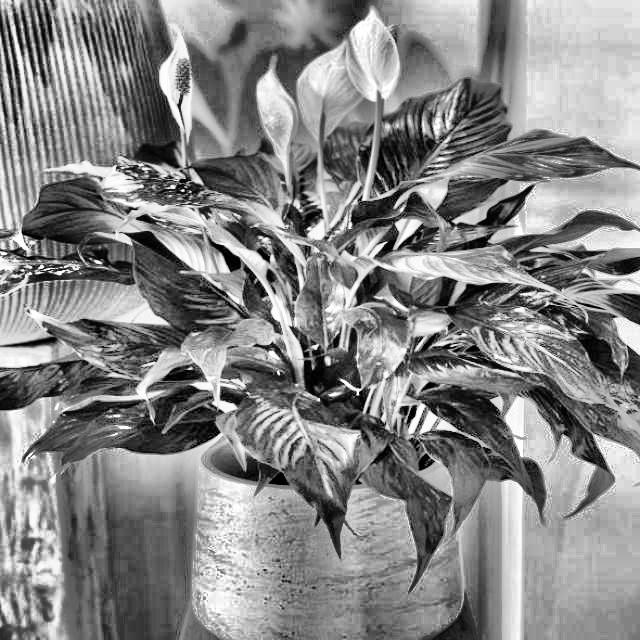plants: (81, 78, 640, 481)
